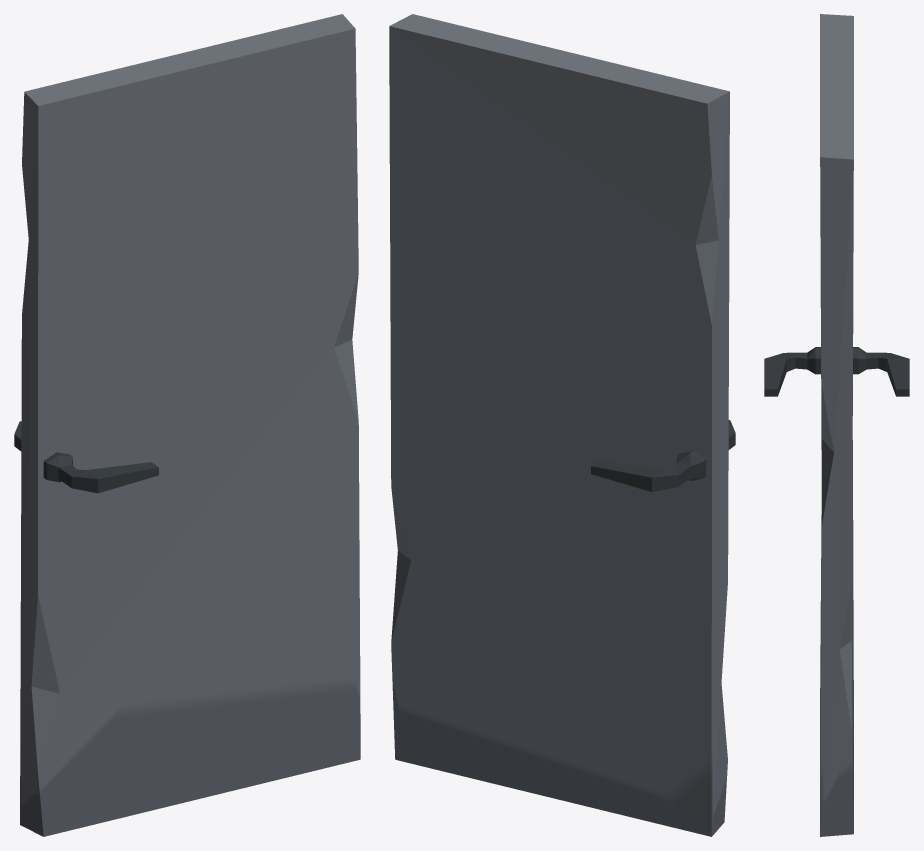
Rendered from SM_Bld_Warehouse_Door_01.fbx.
3 renders of one model, left to right at view 1: azimuth 30°, elevation 25°; view 2: azimuth 150°, elevation 25°; view 3: azimuth 270°, elevation 25°, orthographic. The views are drawn at different scales.
Visible parts, largest first — view 1: SM_Bld_Warehouse_Door_01; view 2: SM_Bld_Warehouse_Door_01; view 3: SM_Bld_Warehouse_Door_01.
Boxes of the visible parts, x1=… form: SM_Bld_Warehouse_Door_01: x1=14, y1=14, x2=360, y2=836; SM_Bld_Warehouse_Door_01: x1=389, y1=14, x2=735, y2=836; SM_Bld_Warehouse_Door_01: x1=764, y1=14, x2=909, y2=836.
Bounding box in the file's own units: 103 × 222 × 43.24.
